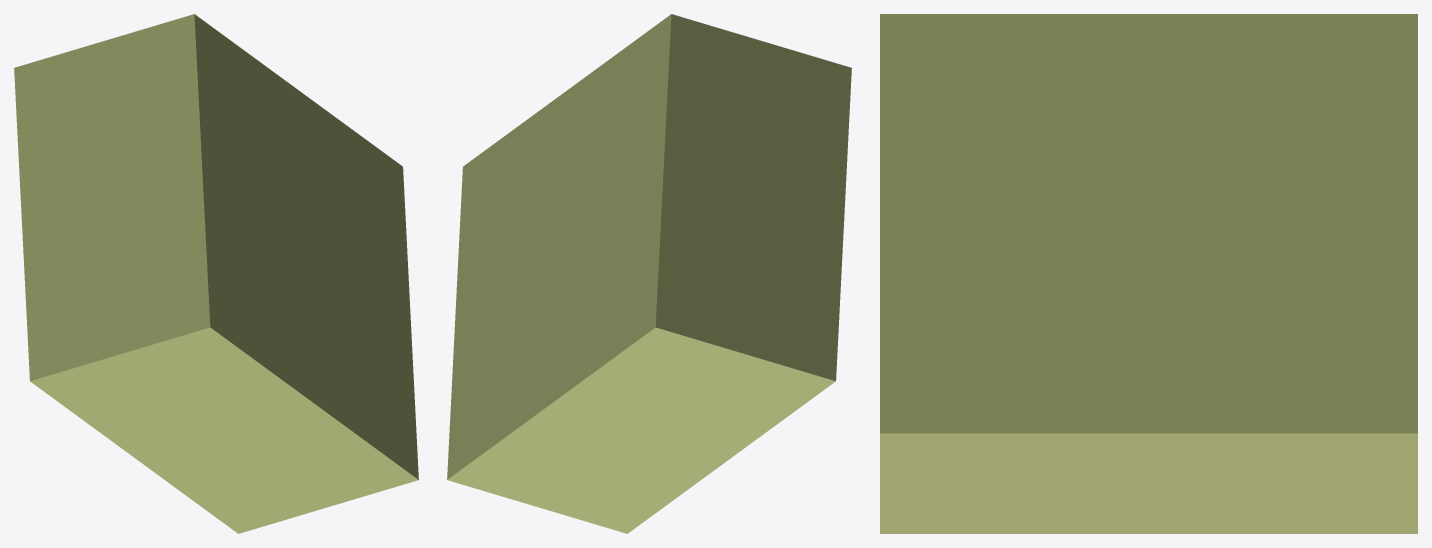
3 renders of one model, left to right at view 1: azimuth 30°, elevation 25°; view 2: azimuth 150°, elevation 25°; view 3: azimuth 270°, elevation 25°, orthographic. The views are drawn at different scales.
Parts seen in each view (by area): view 1: 0_1_0_0_1_0_3_0_1_0_3; view 2: 0_1_0_0_1_0_3_0_1_0_3; view 3: 0_1_0_0_1_0_3_0_1_0_3.
Part boxes in pixels (x1,y1,x2,y2): 0_1_0_0_1_0_3_0_1_0_3: [14, 14, 418, 533]; 0_1_0_0_1_0_3_0_1_0_3: [447, 14, 851, 533]; 0_1_0_0_1_0_3_0_1_0_3: [880, 14, 1417, 533].
Size of the model in its own units: 3.26 by 5.19 by 6.
